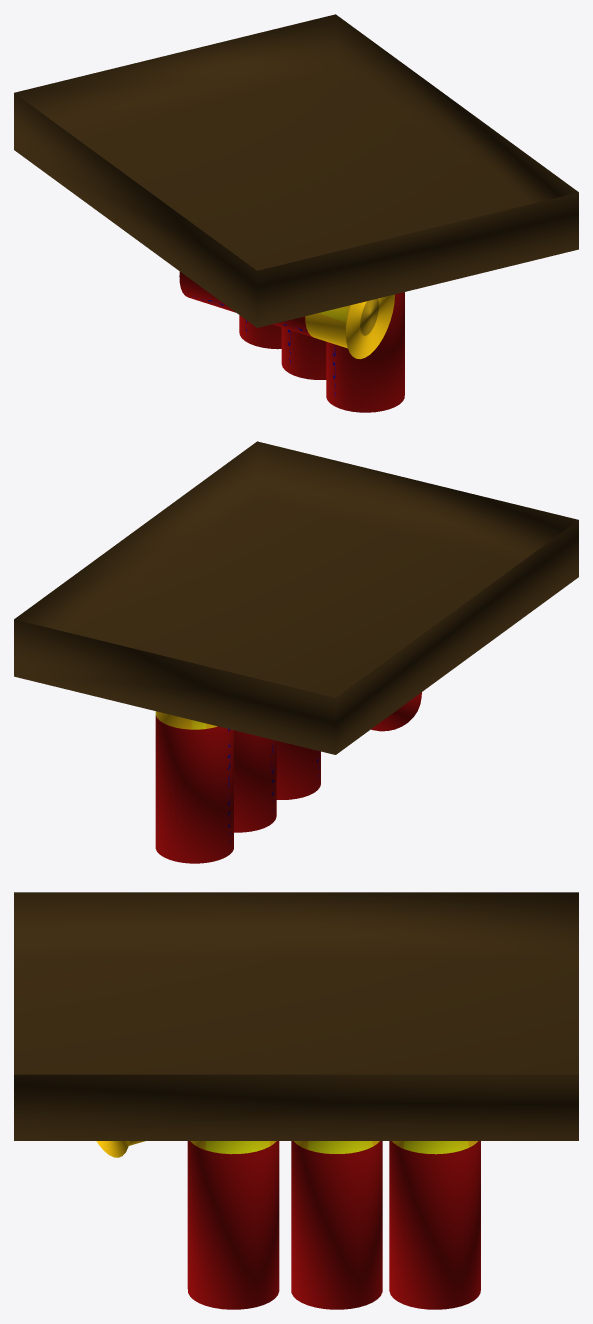
File: escopeta_off.fbx
3 views of the same model, one above another, from view 1: azimuth 30°, elevation 25°; view 2: azimuth 150°, elevation 25°; view 3: azimuth 270°, elevation 25° (orthographic). The views are drawn at different scales.
Parts seen in each view (by area): view 1: Cube, cartucho_003; view 2: Cube, cartucho_003; view 3: Cube, cartucho_003.
Part boxes in pixels (x1,y1,x2,y2): Cube: (14,14,578,327); cartucho_003: (179,271,404,412); Cube: (14,441,578,754); cartucho_003: (155,692,421,863); Cube: (14,892,578,1140); cartucho_003: (96,1141,480,1309).
Bounding box in the file's own units: 9.43 × 6.83 × 12.34.
